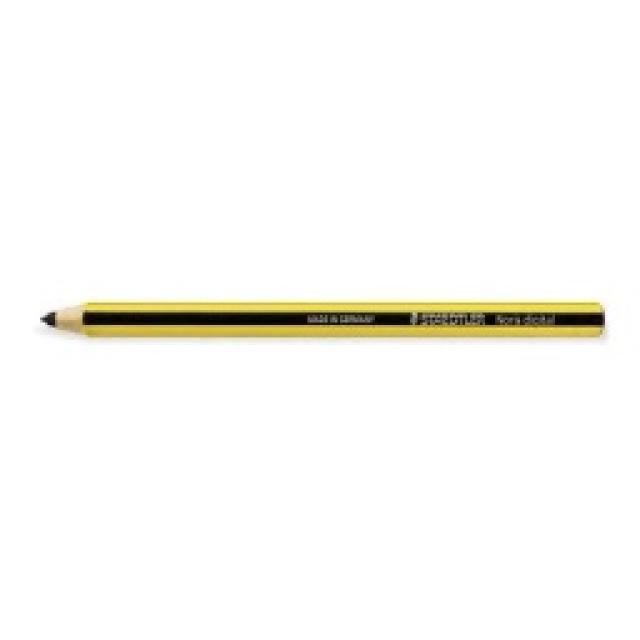pencil: (38, 295, 608, 340)
